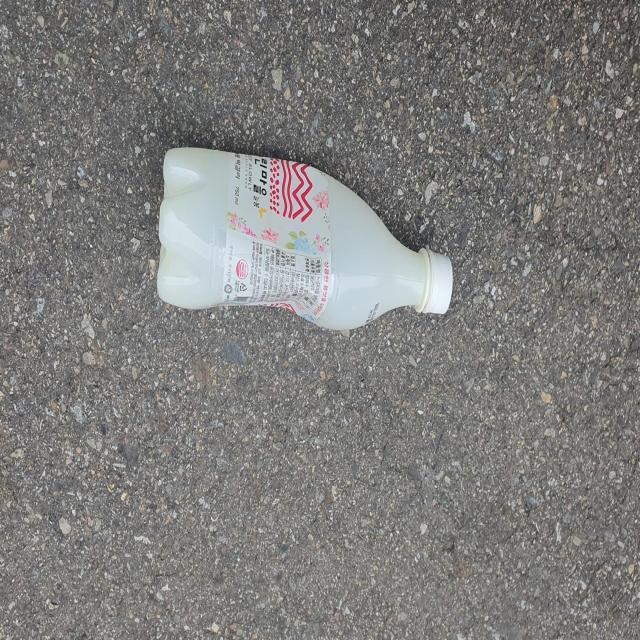plastic: (157, 147, 453, 330)
